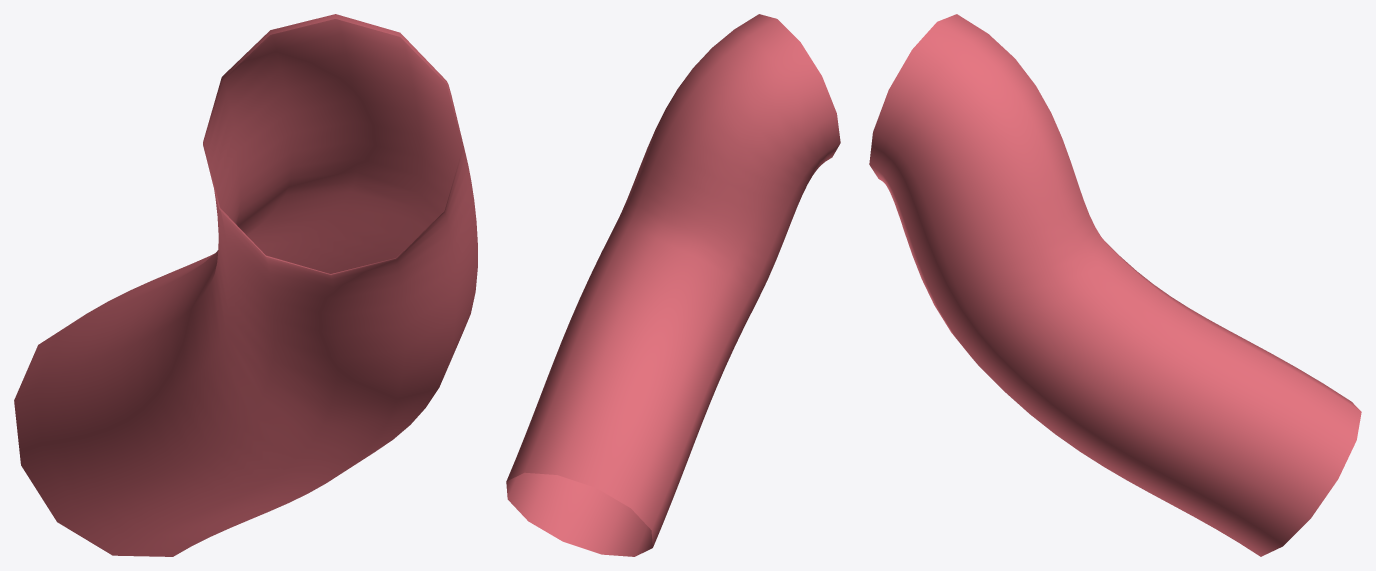
The picture shows the model from 3 angles, left to right: view 1: azimuth 30°, elevation 25°; view 2: azimuth 150°, elevation 25°; view 3: azimuth 270°, elevation 25°; orthographic projection. The views are drawn at different scales.
Parts seen in each view (by area): view 1: ZA_242efb20163f7273; view 2: ZA_242efb20163f7273; view 3: ZA_242efb20163f7273.
Part boxes in pixels (x1,y1,x2,y2): ZA_242efb20163f7273: (14, 14, 477, 556); ZA_242efb20163f7273: (506, 14, 840, 556); ZA_242efb20163f7273: (869, 14, 1361, 556).
Bounding box in the file's own units: 0.011 × 0.0243 × 0.0215.
